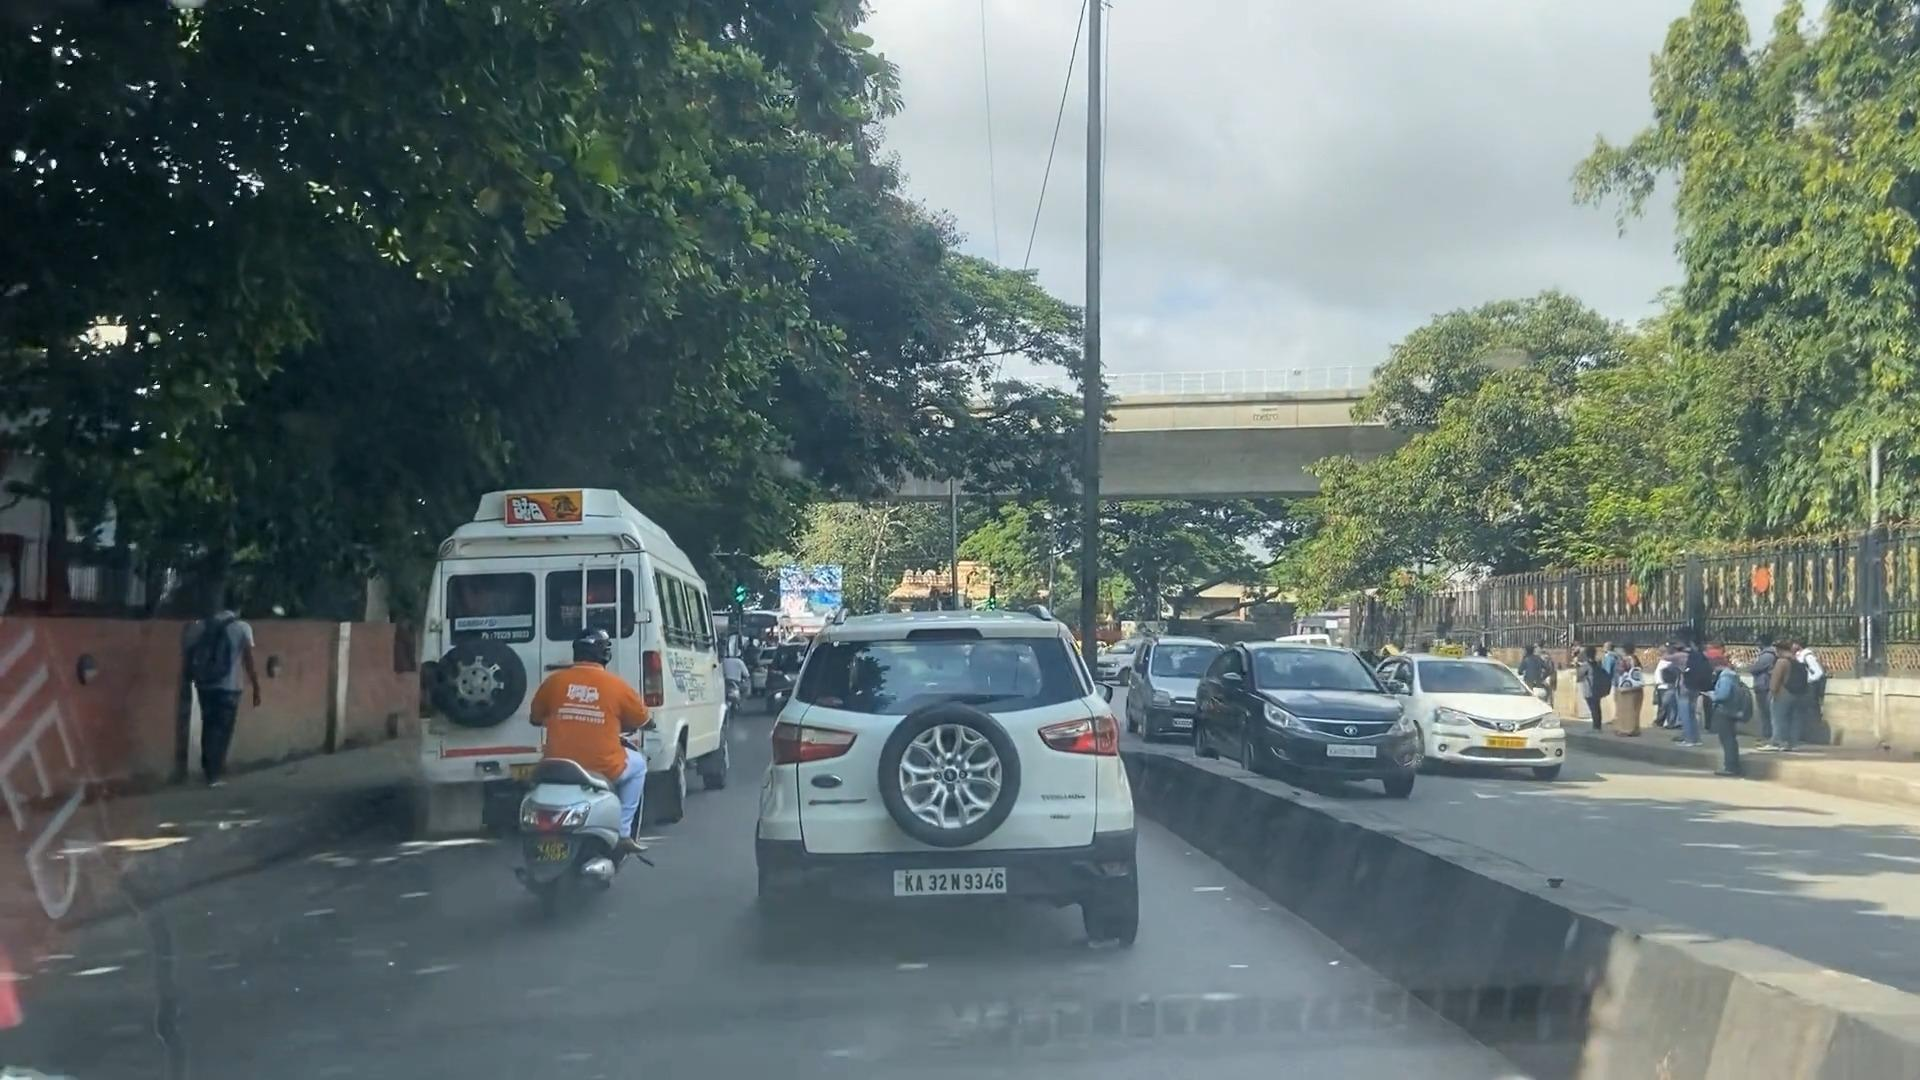HMV: (434, 484, 713, 851)
LMV: (764, 621, 1154, 1005), (365, 630, 562, 1002)
